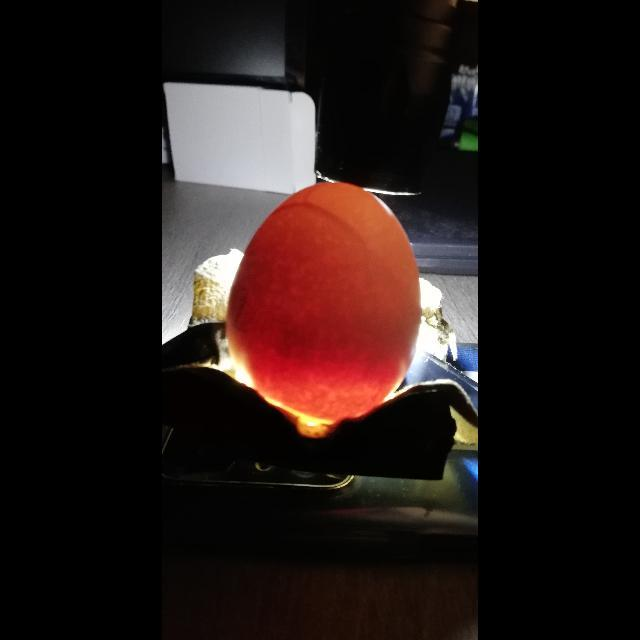Fertile: (230, 178, 430, 418)
